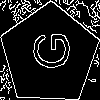G: (24, 30, 70, 71)
